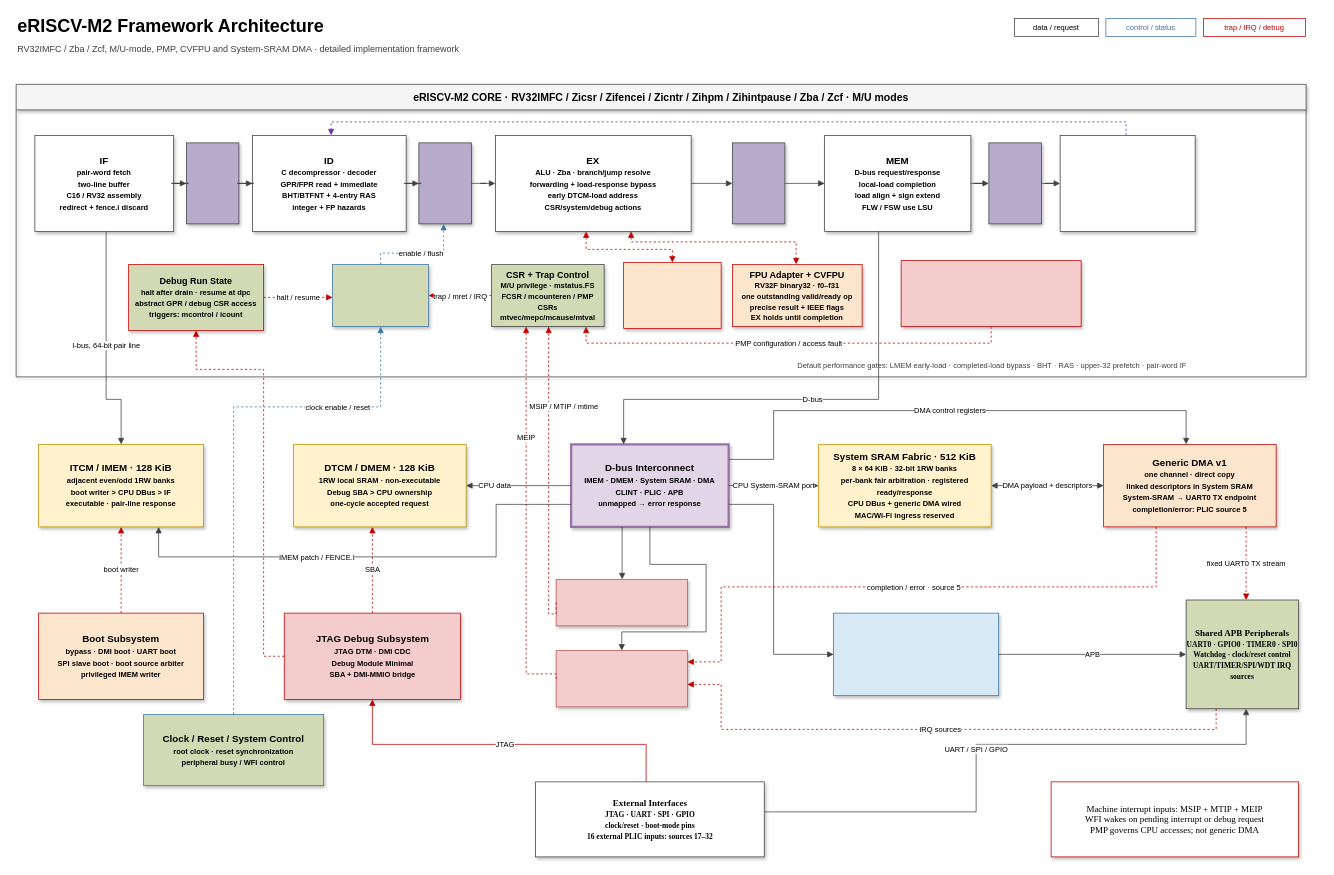
Image size: 1334x875. Some labels were removed from this diagram. Here are the shapes that lost their labels. From the top down, the centre of each, then its label:
At pixel 213 184: "IF/ID pc · instr · valid".
At pixel 445 184: "ID/EX operands · control integer / FP fields valid".
At pixel 759 184: "EX/MEM address · store data integer / FP result valid".
At pixel 1015 184: "MEM/WB wb data · rd / frd valid".
At pixel 1128 184: "WB GPR/FPR writeback FCSR flags at commit architectural retirement".
At pixel 381 296: "Pipeline Control stage enables / flushes stall arbitration redirect priority".
At pixel 673 296: "RV32M Unit iterative MUL/MULH DIV/REM shortcuts EX holds while busy".
At pixel 991 294: "PMP Checker 16 entries · CPU fetch/load/store checks precise access-fault packet".
At pixel 622 603: "CLINT MSIP · MTIME · MTIMECMP".
At pixel 916 655: "APB Bridge + Interconnect 32-bit DBus-to-APB · PREADY/PSLVERR".
At pixel 622 679: "PLIC v1.0 32 sources · one context DMA: source 5 · MEIP".
